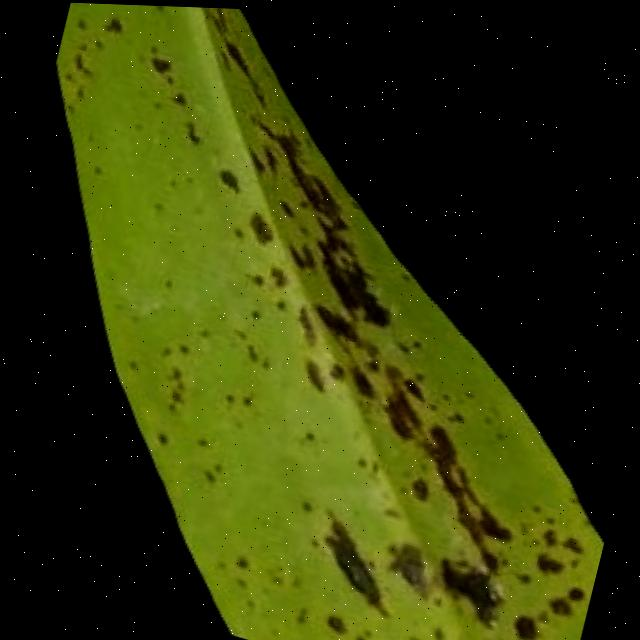mite: (286, 490, 596, 640), (504, 607, 541, 640), (211, 166, 241, 193), (319, 608, 346, 635), (145, 51, 170, 77), (98, 14, 122, 37)
spots: (2, 2, 640, 640)
